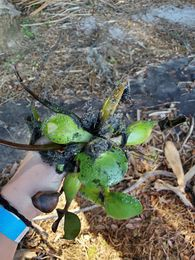water_hyacinth: (13, 68, 164, 243)
